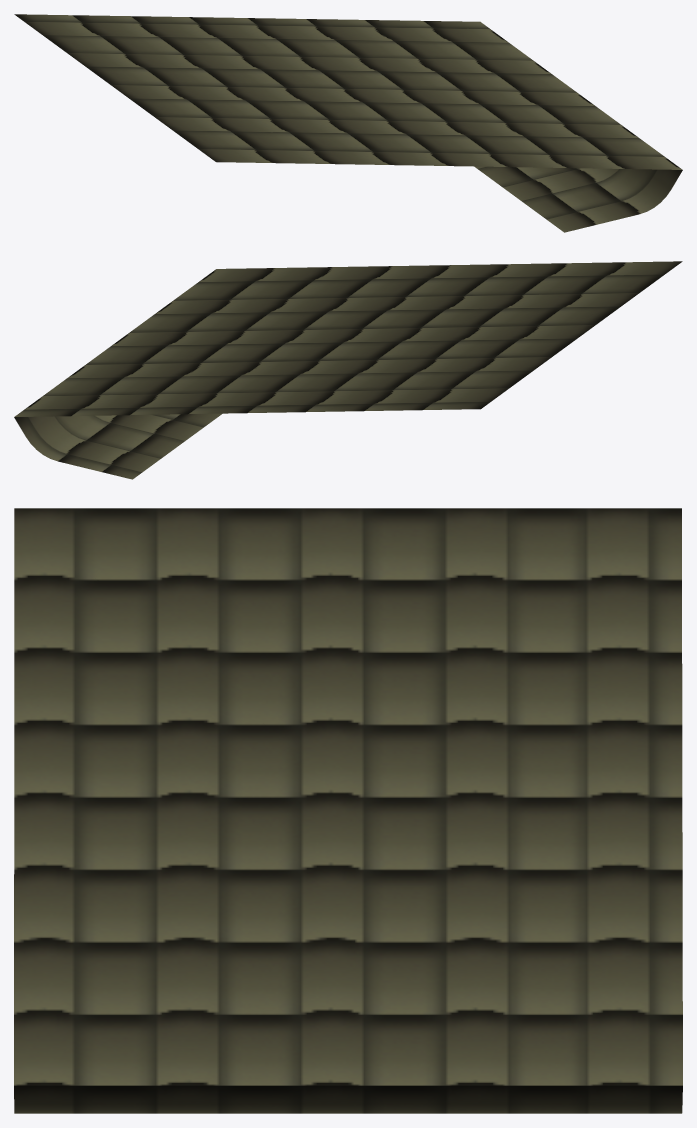
The model's file is NNJ0510057.fbx.
3 renders of one model, top to bottom at view 1: azimuth 30°, elevation 25°; view 2: azimuth 150°, elevation 25°; view 3: azimuth 270°, elevation 25°, orthographic. The views are drawn at different scales.
Parts seen in each view (by area): view 1: smNNJ0510057; view 2: smNNJ0510057; view 3: smNNJ0510057.
Boxes of the visible parts, box(x1,y1,x2,y2) form: smNNJ0510057: box(14, 14, 682, 232); smNNJ0510057: box(14, 261, 682, 479); smNNJ0510057: box(14, 508, 682, 1113).
Size of the model in its own units: 369 by 117 by 277.
Materials: 1 (1 with a texture image).
